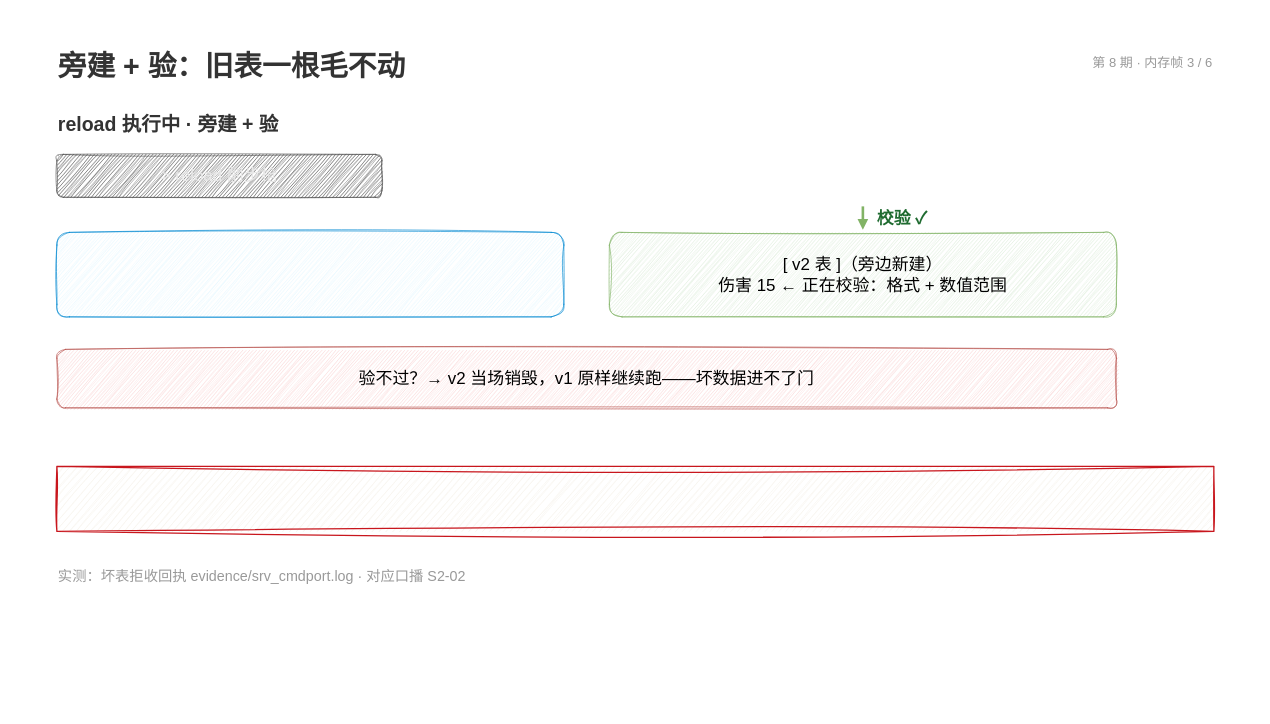
Some shapes in this 1270 by 724 pixel diagram are drawn without their labels. Here are the shapes that lost their labels. From the top down, the box of each, then its label:
(56, 232, 564, 317): [ v1 表 ] 伤害 25 —— 照常服务，一根毛没动
(56, 465, 1214, 532): 新表在旁边建好验过，才轮到换 —— 旧的全程无感
